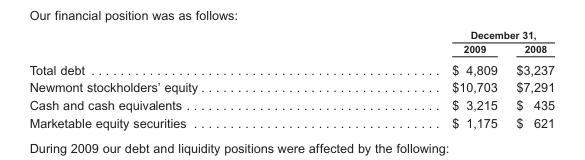table: (28, 28, 554, 129)
table column: (28, 28, 327, 129), (327, 28, 506, 129), (506, 28, 554, 129)
table column header: (28, 28, 554, 58)
table row: (28, 58, 554, 78), (28, 95, 554, 113), (28, 41, 554, 58), (28, 78, 554, 95), (28, 113, 554, 129), (28, 28, 554, 41)
table spanning cell: (327, 28, 554, 41)
